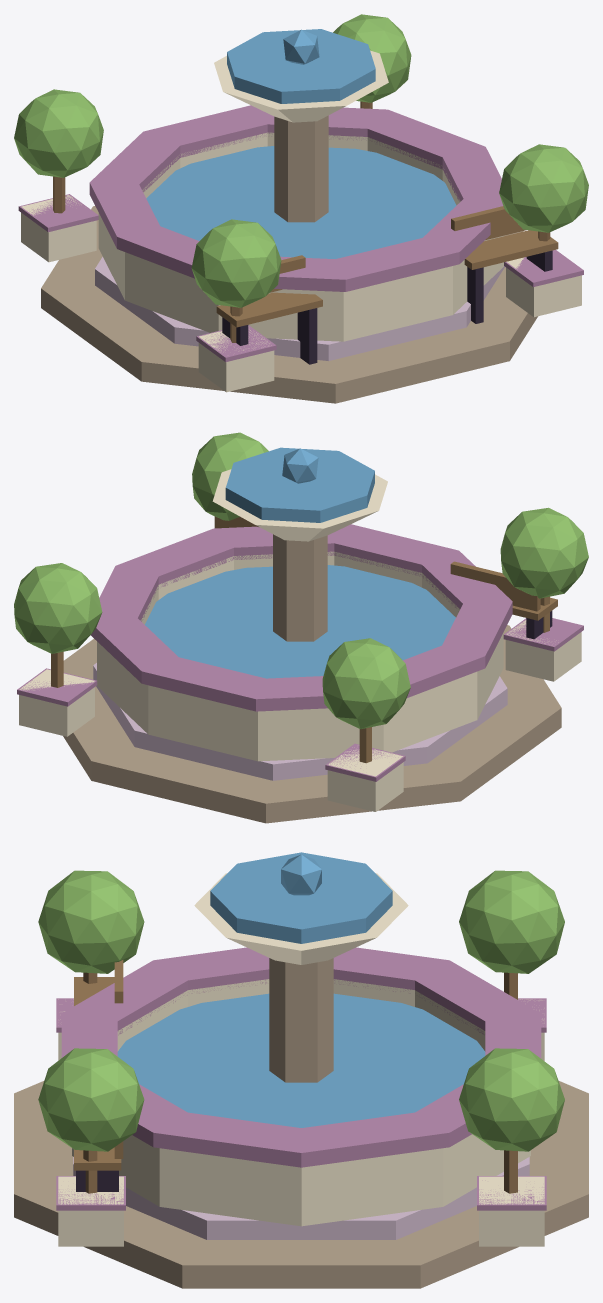
Rendered from plaza-slab-with-fountain.glb.
3 renders of one model, top to bottom at view 1: azimuth 30°, elevation 25°; view 2: azimuth 150°, elevation 25°; view 3: azimuth 270°, elevation 25°, orthographic. The views are drawn at different scales.
Visible parts, largest first — view 1: city-plaza-slab-with-fountain; view 2: city-plaza-slab-with-fountain; view 3: city-plaza-slab-with-fountain.
Part boxes in pixels (box(x1,y1,x2,y2)): city-plaza-slab-with-fountain: box(14, 14, 588, 403); city-plaza-slab-with-fountain: box(14, 432, 588, 823); city-plaza-slab-with-fountain: box(14, 852, 588, 1288).
Bounding box in the file's own units: 2.68 × 1.61 × 2.68.
